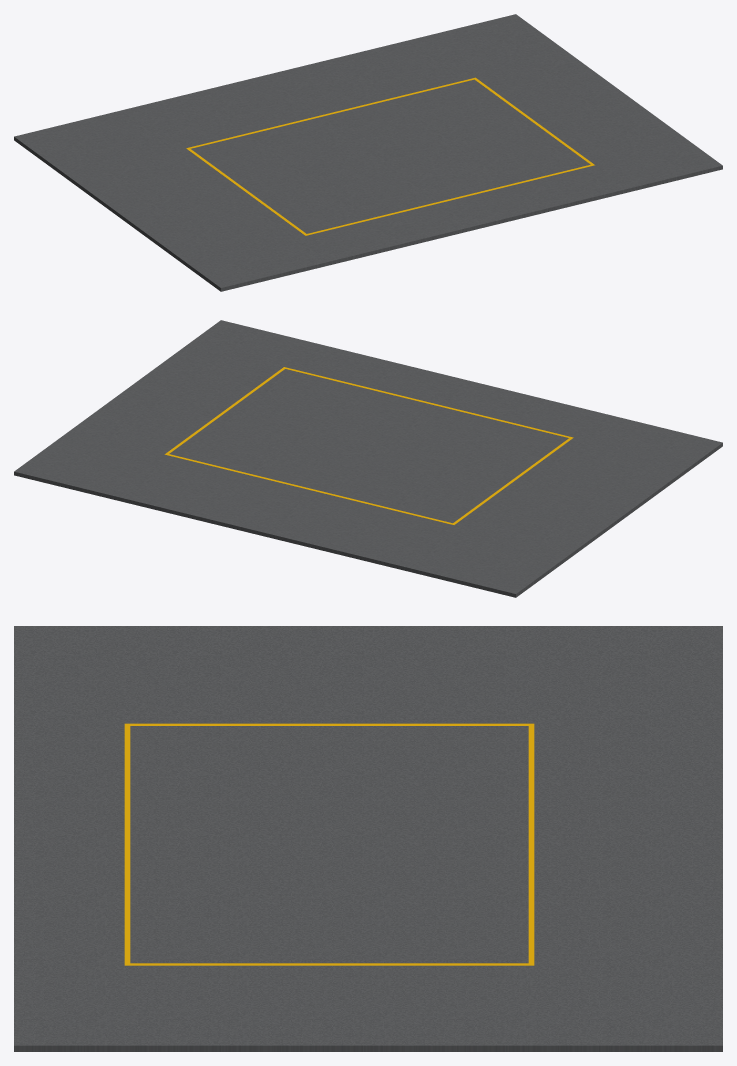
The model's file is floor_14x10.glb.
3 views of the same model, one above another, from view 1: azimuth 30°, elevation 25°; view 2: azimuth 150°, elevation 25°; view 3: azimuth 270°, elevation 25° (orthographic). The views are drawn at different scales.
Visible parts, largest first — view 1: Slab, SafetyLines; view 2: Slab, SafetyLines; view 3: Slab, SafetyLines.
Boxes of the visible parts, x1=… form: Slab: x1=14, y1=14, x2=722, y2=291; SafetyLines: x1=186, y1=77, x2=594, y2=235; Slab: x1=14, y1=320, x2=722, y2=597; SafetyLines: x1=164, y1=367, x2=573, y2=524; Slab: x1=14, y1=626, x2=722, y2=1051; SafetyLines: x1=124, y1=723, x2=534, y2=965.
Bounding box in the file's own units: 14 × 0.102 × 10.
Materials: 2 (1 with a texture image).
